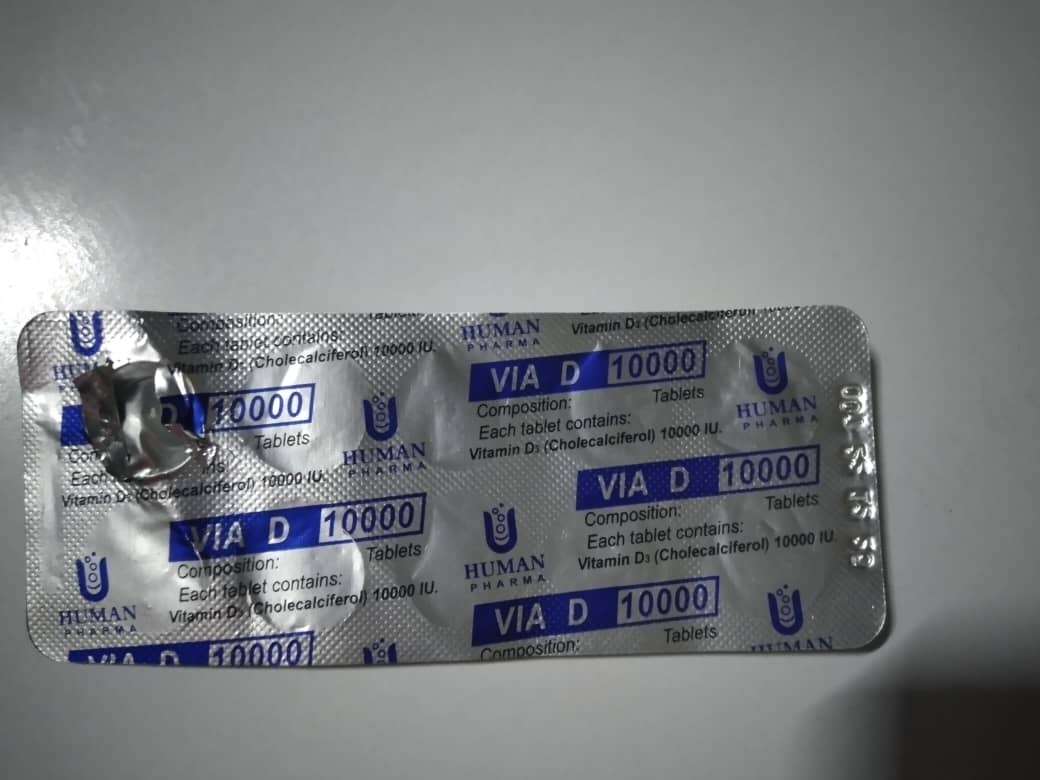Medicine: (20, 298, 904, 704)
